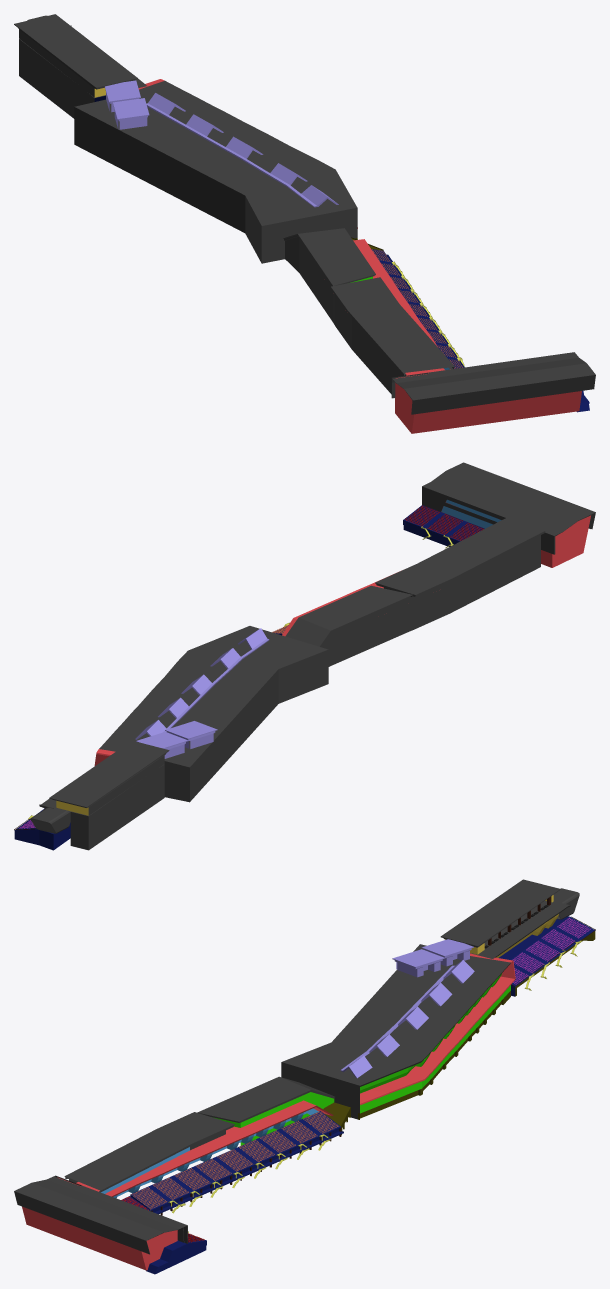
The model's file is building7.fbx.
3 views of the same model, one above another, from view 1: azimuth 30°, elevation 25°; view 2: azimuth 150°, elevation 25°; view 3: azimuth 330°, elevation 25° (orthographic). The views are drawn at different scales.
Visible parts, largest first — view 1: concrete2, mid_part, top_house, seat_base, Cube.467; view 2: concrete2, top_house, seat_base, mid_part, Cube.470, glass1; view 3: concrete2, seat_base, mid_part, top_house, Cube.467, glass2, seat_base2, Cube.409, glass1, stairs, blocks2.
Part boxes in pixels (x1,y1,x2,y2): concrete2: (14, 14, 595, 414); mid_part: (138, 79, 581, 433); top_house: (105, 80, 338, 207); seat_base: (94, 95, 589, 412); Cube.467: (372, 249, 462, 368); concrete2: (30, 462, 595, 850); top_house: (135, 628, 269, 758); seat_base: (14, 505, 484, 850); mid_part: (94, 502, 590, 765); Cube.470: (405, 505, 483, 540); glass1: (441, 499, 501, 528); concrete2: (14, 879, 579, 1254); seat_base: (122, 916, 594, 1274); mid_part: (22, 953, 515, 1270); top_house: (340, 939, 474, 1078); Cube.467: (131, 1111, 338, 1209); glass2: (213, 973, 510, 1145); seat_base2: (323, 931, 595, 1135); Cube.409: (512, 917, 590, 984); glass1: (101, 1108, 318, 1198); stairs: (168, 940, 581, 1232); blocks2: (150, 896, 595, 1215).
Bounding box in the file's own units: 9999 × 2648 × 47385.
